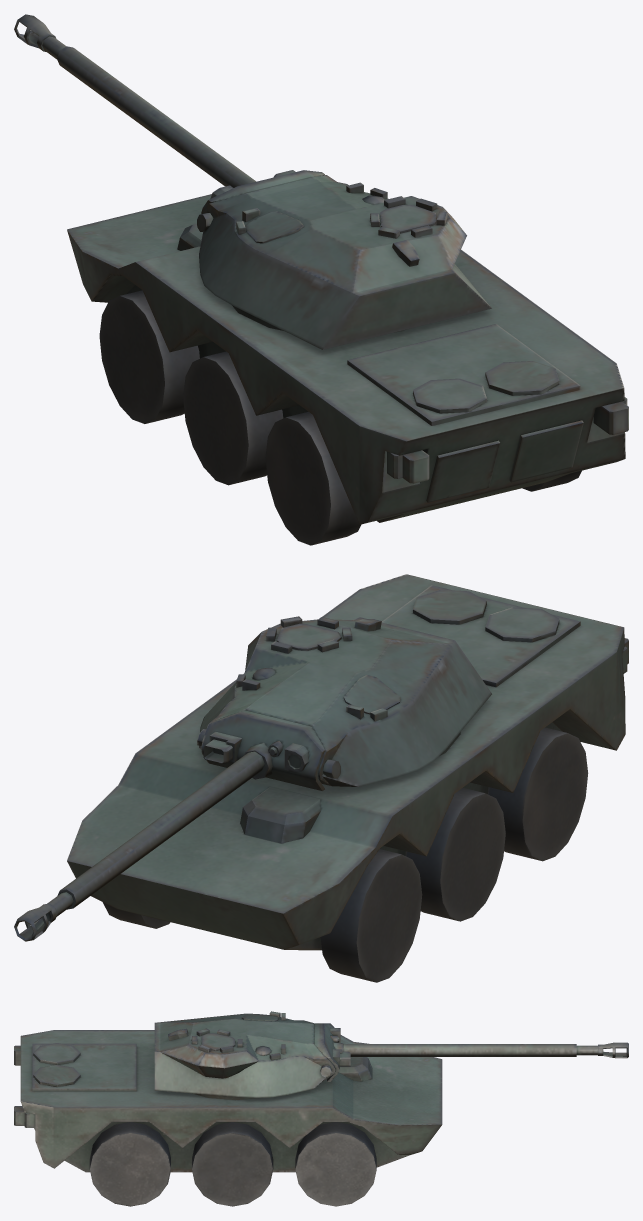
Rendered from AMX-10RC.fbx.
3 views of the same model, one above another, from view 1: azimuth 30°, elevation 25°; view 2: azimuth 150°, elevation 25°; view 3: azimuth 270°, elevation 25° (orthographic). The views are drawn at different scales.
Parts seen in each view (by area): view 1: AMX-10RC Hull, AMX-10RC Turret; view 2: AMX-10RC Hull, AMX-10RC Turret; view 3: AMX-10RC Hull, AMX-10RC Turret.
Boxes of the visible parts, x1,y1,x2,y2 form: AMX-10RC Hull: (67, 194, 628, 545); AMX-10RC Turret: (14, 14, 491, 349); AMX-10RC Hull: (67, 574, 628, 982); AMX-10RC Turret: (14, 616, 491, 941); AMX-10RC Hull: (14, 1030, 442, 1206); AMX-10RC Turret: (154, 1011, 628, 1099).
Bounding box in the file's own units: 2.68 × 2.3 × 8.96.
